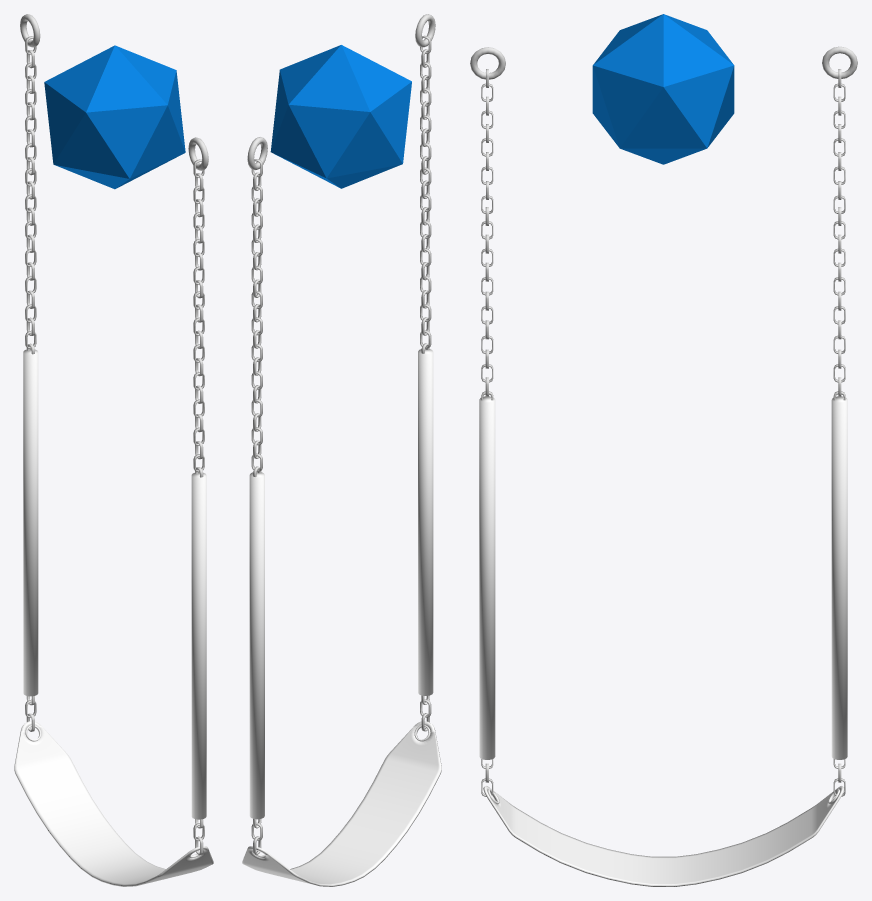
The model's file is Sling swing 8ft.glb.
The picture shows the model from 3 angles, left to right: view 1: azimuth 30°, elevation 25°; view 2: azimuth 150°, elevation 25°; view 3: azimuth 270°, elevation 25°; orthographic projection. The views are drawn at different scales.
Parts seen in each view (by area): view 1: Circle.005, Joint.039, Torus; view 2: Circle.005, Joint.039, Torus; view 3: Circle.005, Joint.039, Torus.
Boxes of the visible parts, x1,y1,x2,y2 form: Circle.005: (14,36,213,886); Joint.039: (44,45,185,189); Torus: (20,14,208,170); Circle.005: (242,35,441,886); Joint.039: (270,45,411,188); Torus: (247,14,435,170); Circle.005: (479,69,847,886); Joint.039: (592,14,734,164); Torus: (470,46,857,79).
Bounding box in the file's own units: 0.2726 × 1.74 × 0.7104.
